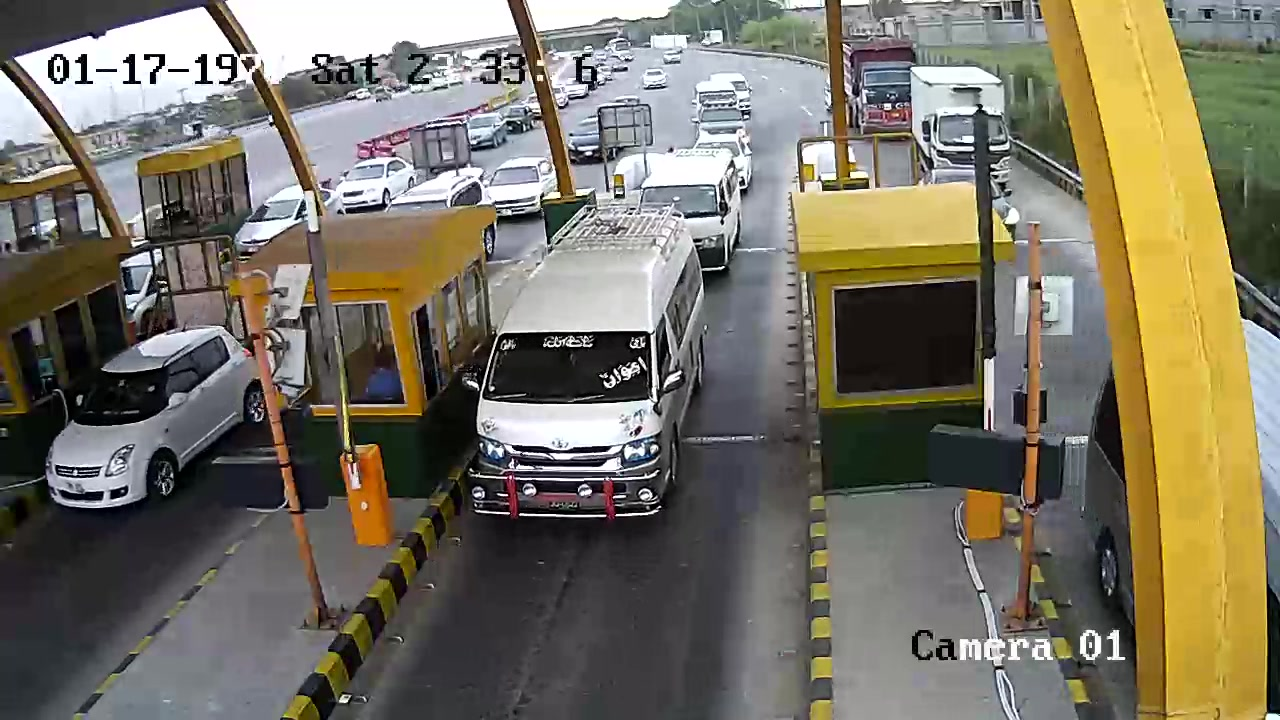F2: (462, 201, 731, 529)
F3: (462, 201, 731, 529)
